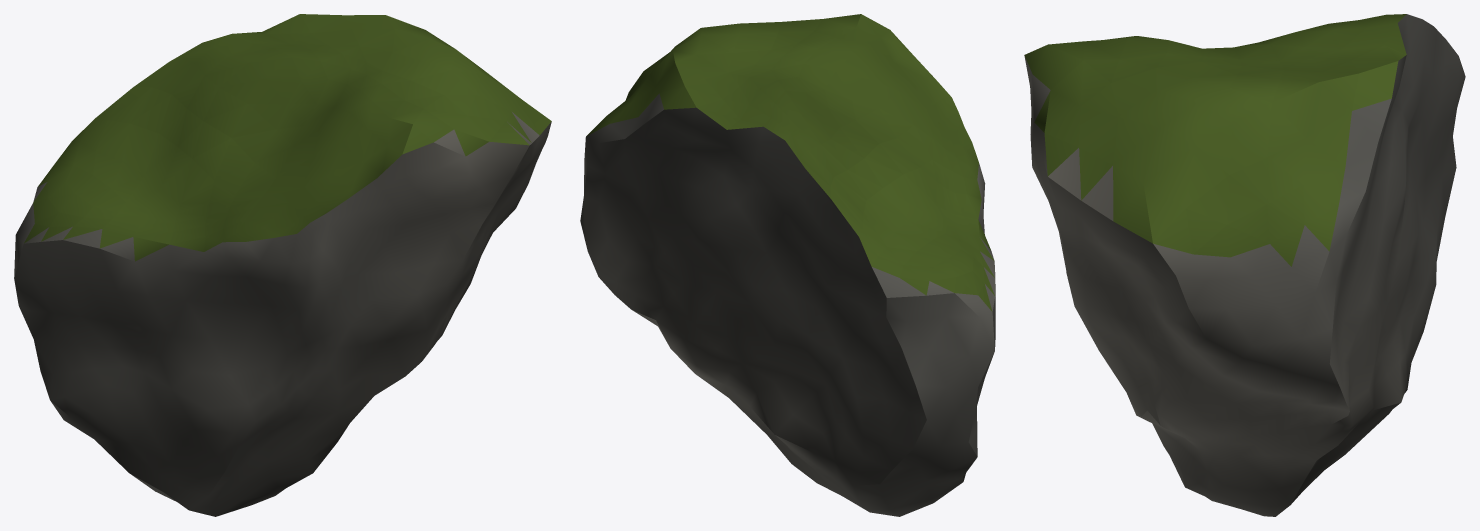
The model's file is rock_b.glb.
3 renders of one model, left to right at view 1: azimuth 30°, elevation 25°; view 2: azimuth 150°, elevation 25°; view 3: azimuth 270°, elevation 25°, orthographic. The views are drawn at different scales.
Visible parts, largest first — view 1: LOD0; view 2: LOD0; view 3: LOD0.
Boxes of the visible parts, x1,y1,x2,y2 form: LOD0: (14, 14, 551, 516); LOD0: (580, 14, 995, 516); LOD0: (1024, 14, 1465, 516).
Size of what is drawn, in the model's own units: 2.64 by 2.36 by 1.79.
